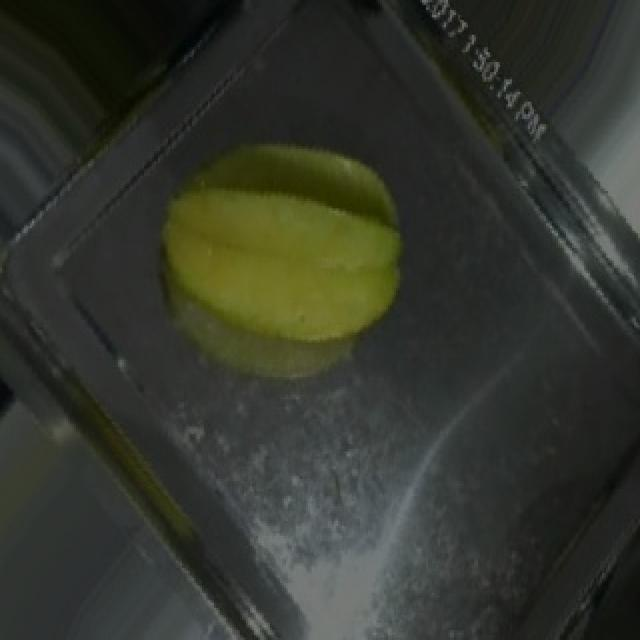fruit: (118, 84, 462, 417), (392, 0, 640, 156)
